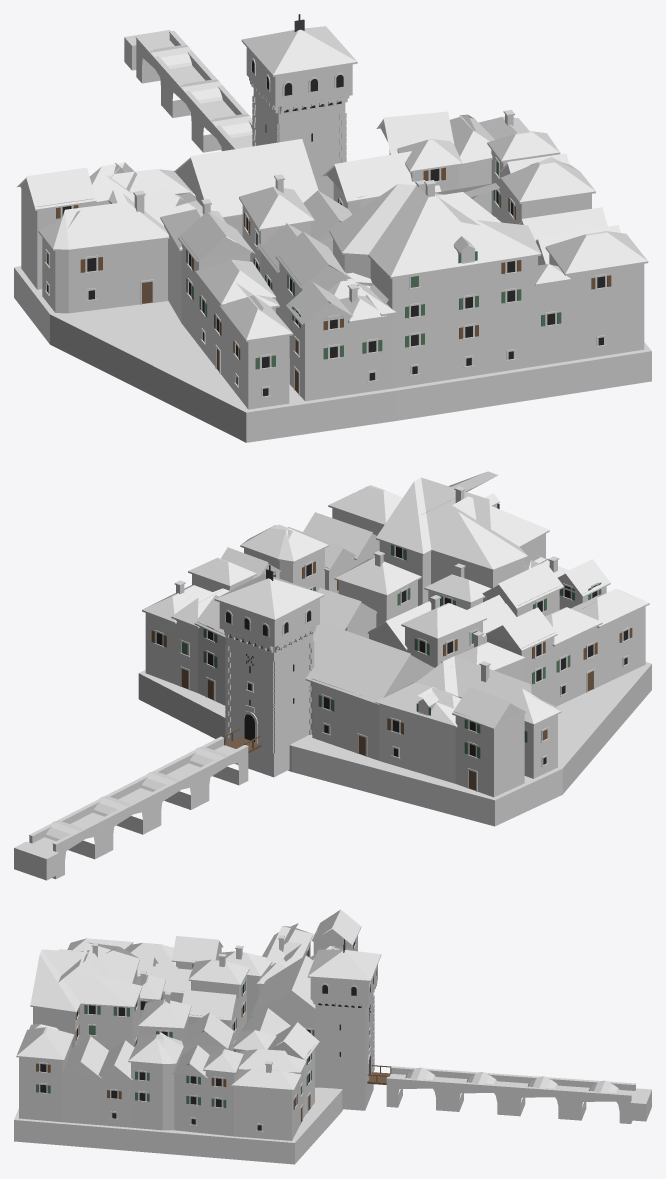
The model's file is kastilac.glb.
The picture shows the model from 3 angles, top to bottom: view 1: azimuth 30°, elevation 25°; view 2: azimuth 150°, elevation 25°; view 3: azimuth 270°, elevation 25°; orthographic projection. The views are drawn at different scales.
Parts seen in each view (by area): view 1: kastilac_LOD0; view 2: kastilac_LOD0; view 3: kastilac_LOD0.
Boxes of the visible parts, x1,y1,x2,y2 form: kastilac_LOD0: (14, 14, 651, 442); kastilac_LOD0: (14, 471, 651, 880); kastilac_LOD0: (14, 909, 651, 1164).
Size of what is drawn, in the model's own units: 49.82 by 22.39 by 80.68.
